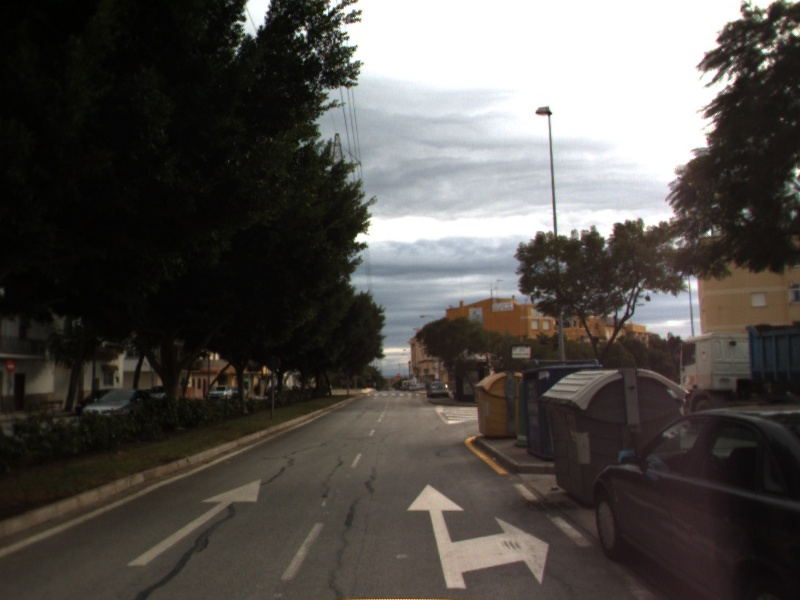STRAIGHT: (125, 477, 263, 568)
STRAIGHT_RIGHT: (404, 481, 551, 590)
